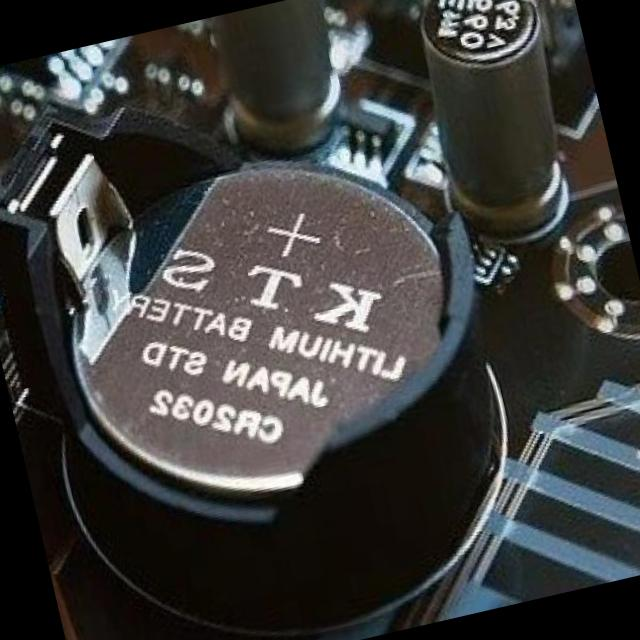capacitor: (398, 0, 609, 259)
